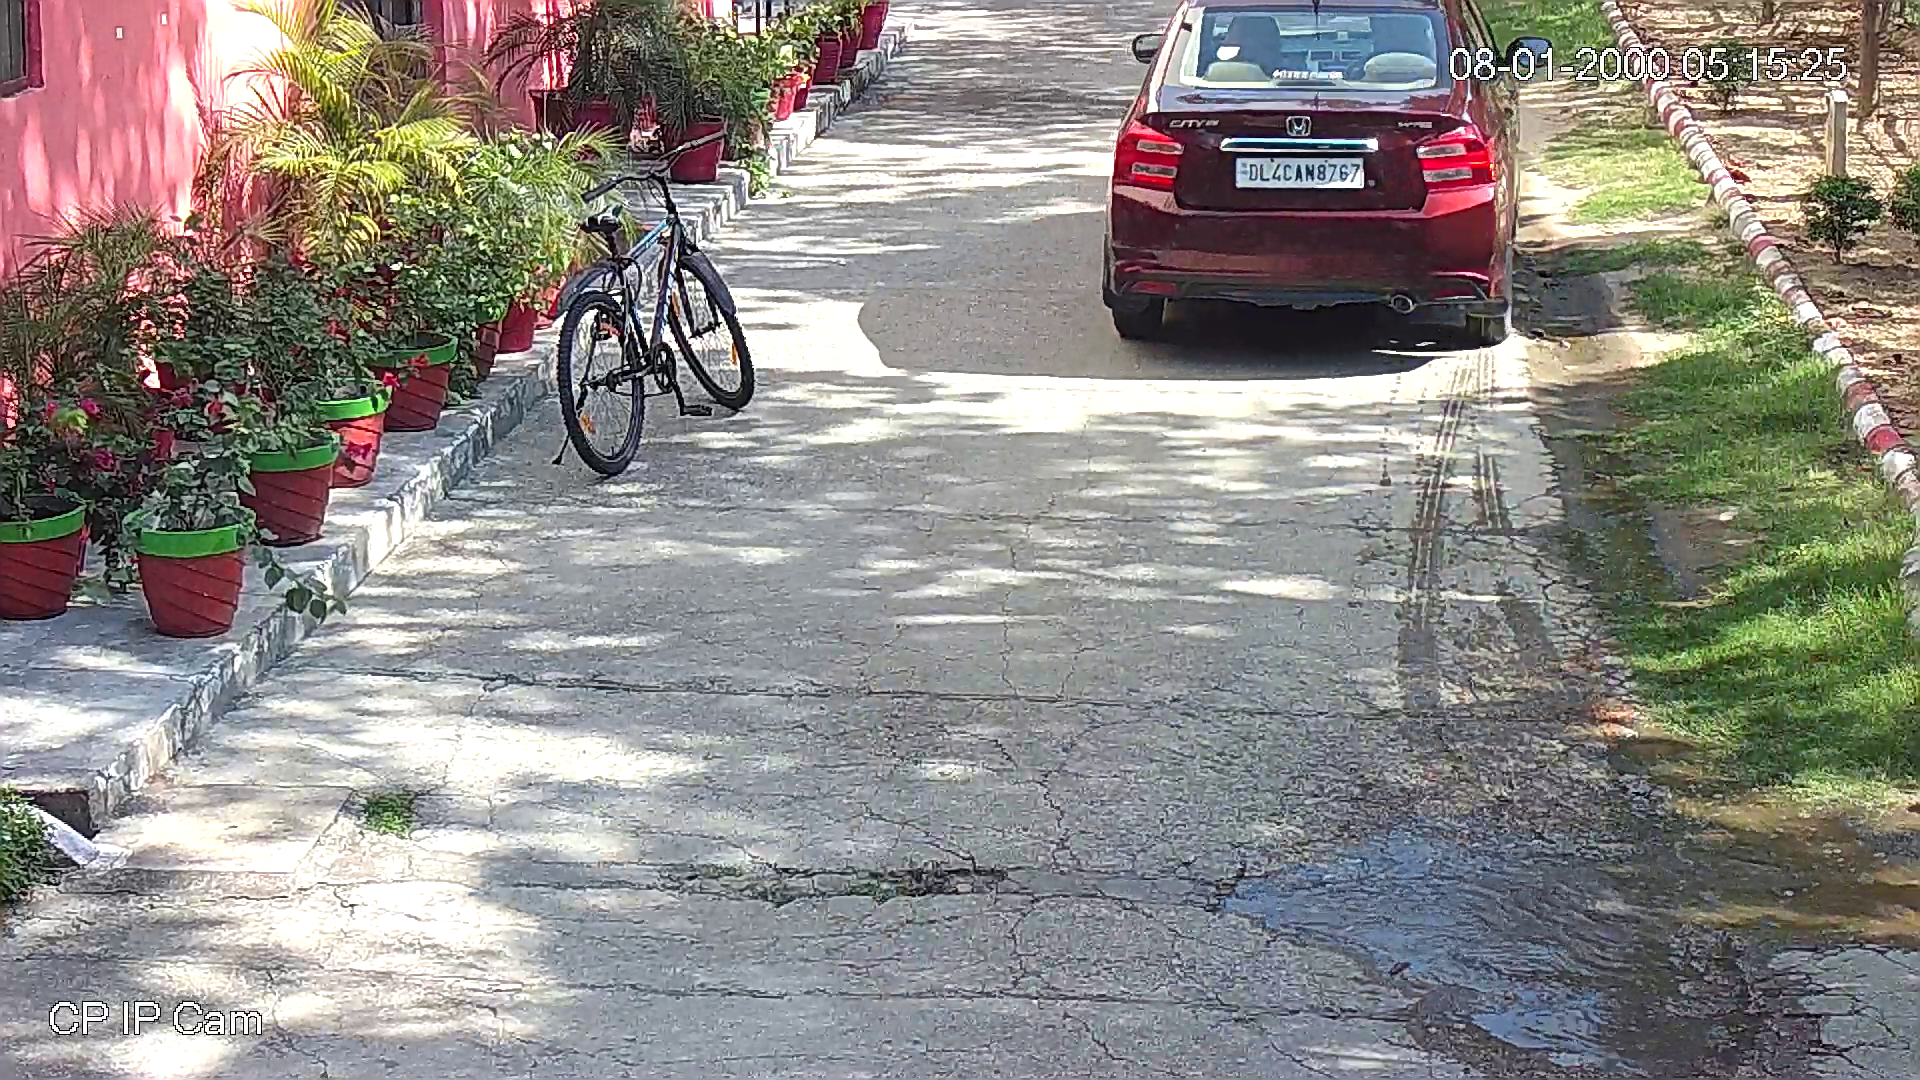plate: (1233, 151, 1371, 193)
